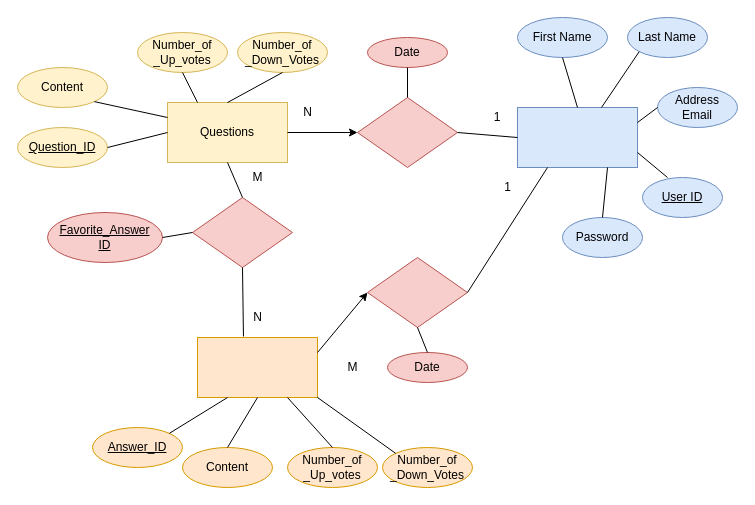
Some shapes in this 755 by 505 pixel diagram are drawn without their labels. Each missing label, with the centre of its shape:
"Answers" belongs at (x=257, y=367).
"Asks" belongs at (x=407, y=132).
"Has" belongs at (x=242, y=232).
"Responds" belongs at (x=417, y=292).
"Users" belongs at (x=577, y=137).
